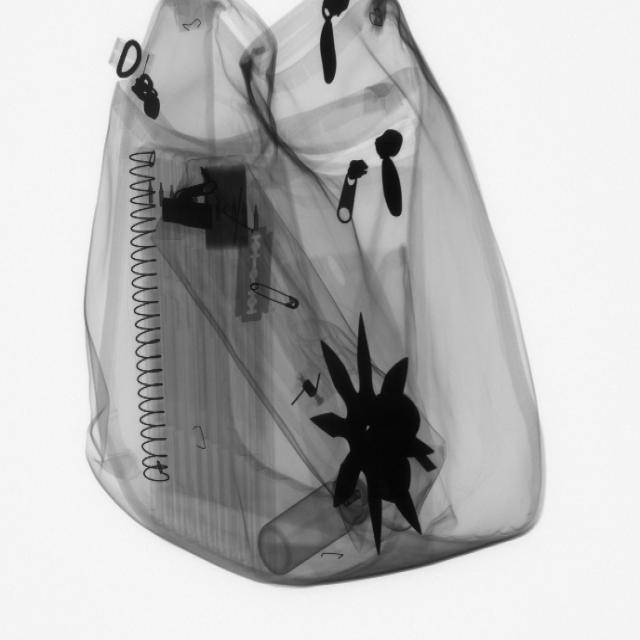BLADE: (227, 216, 280, 334)
SHURIKEN: (317, 313, 438, 557)
